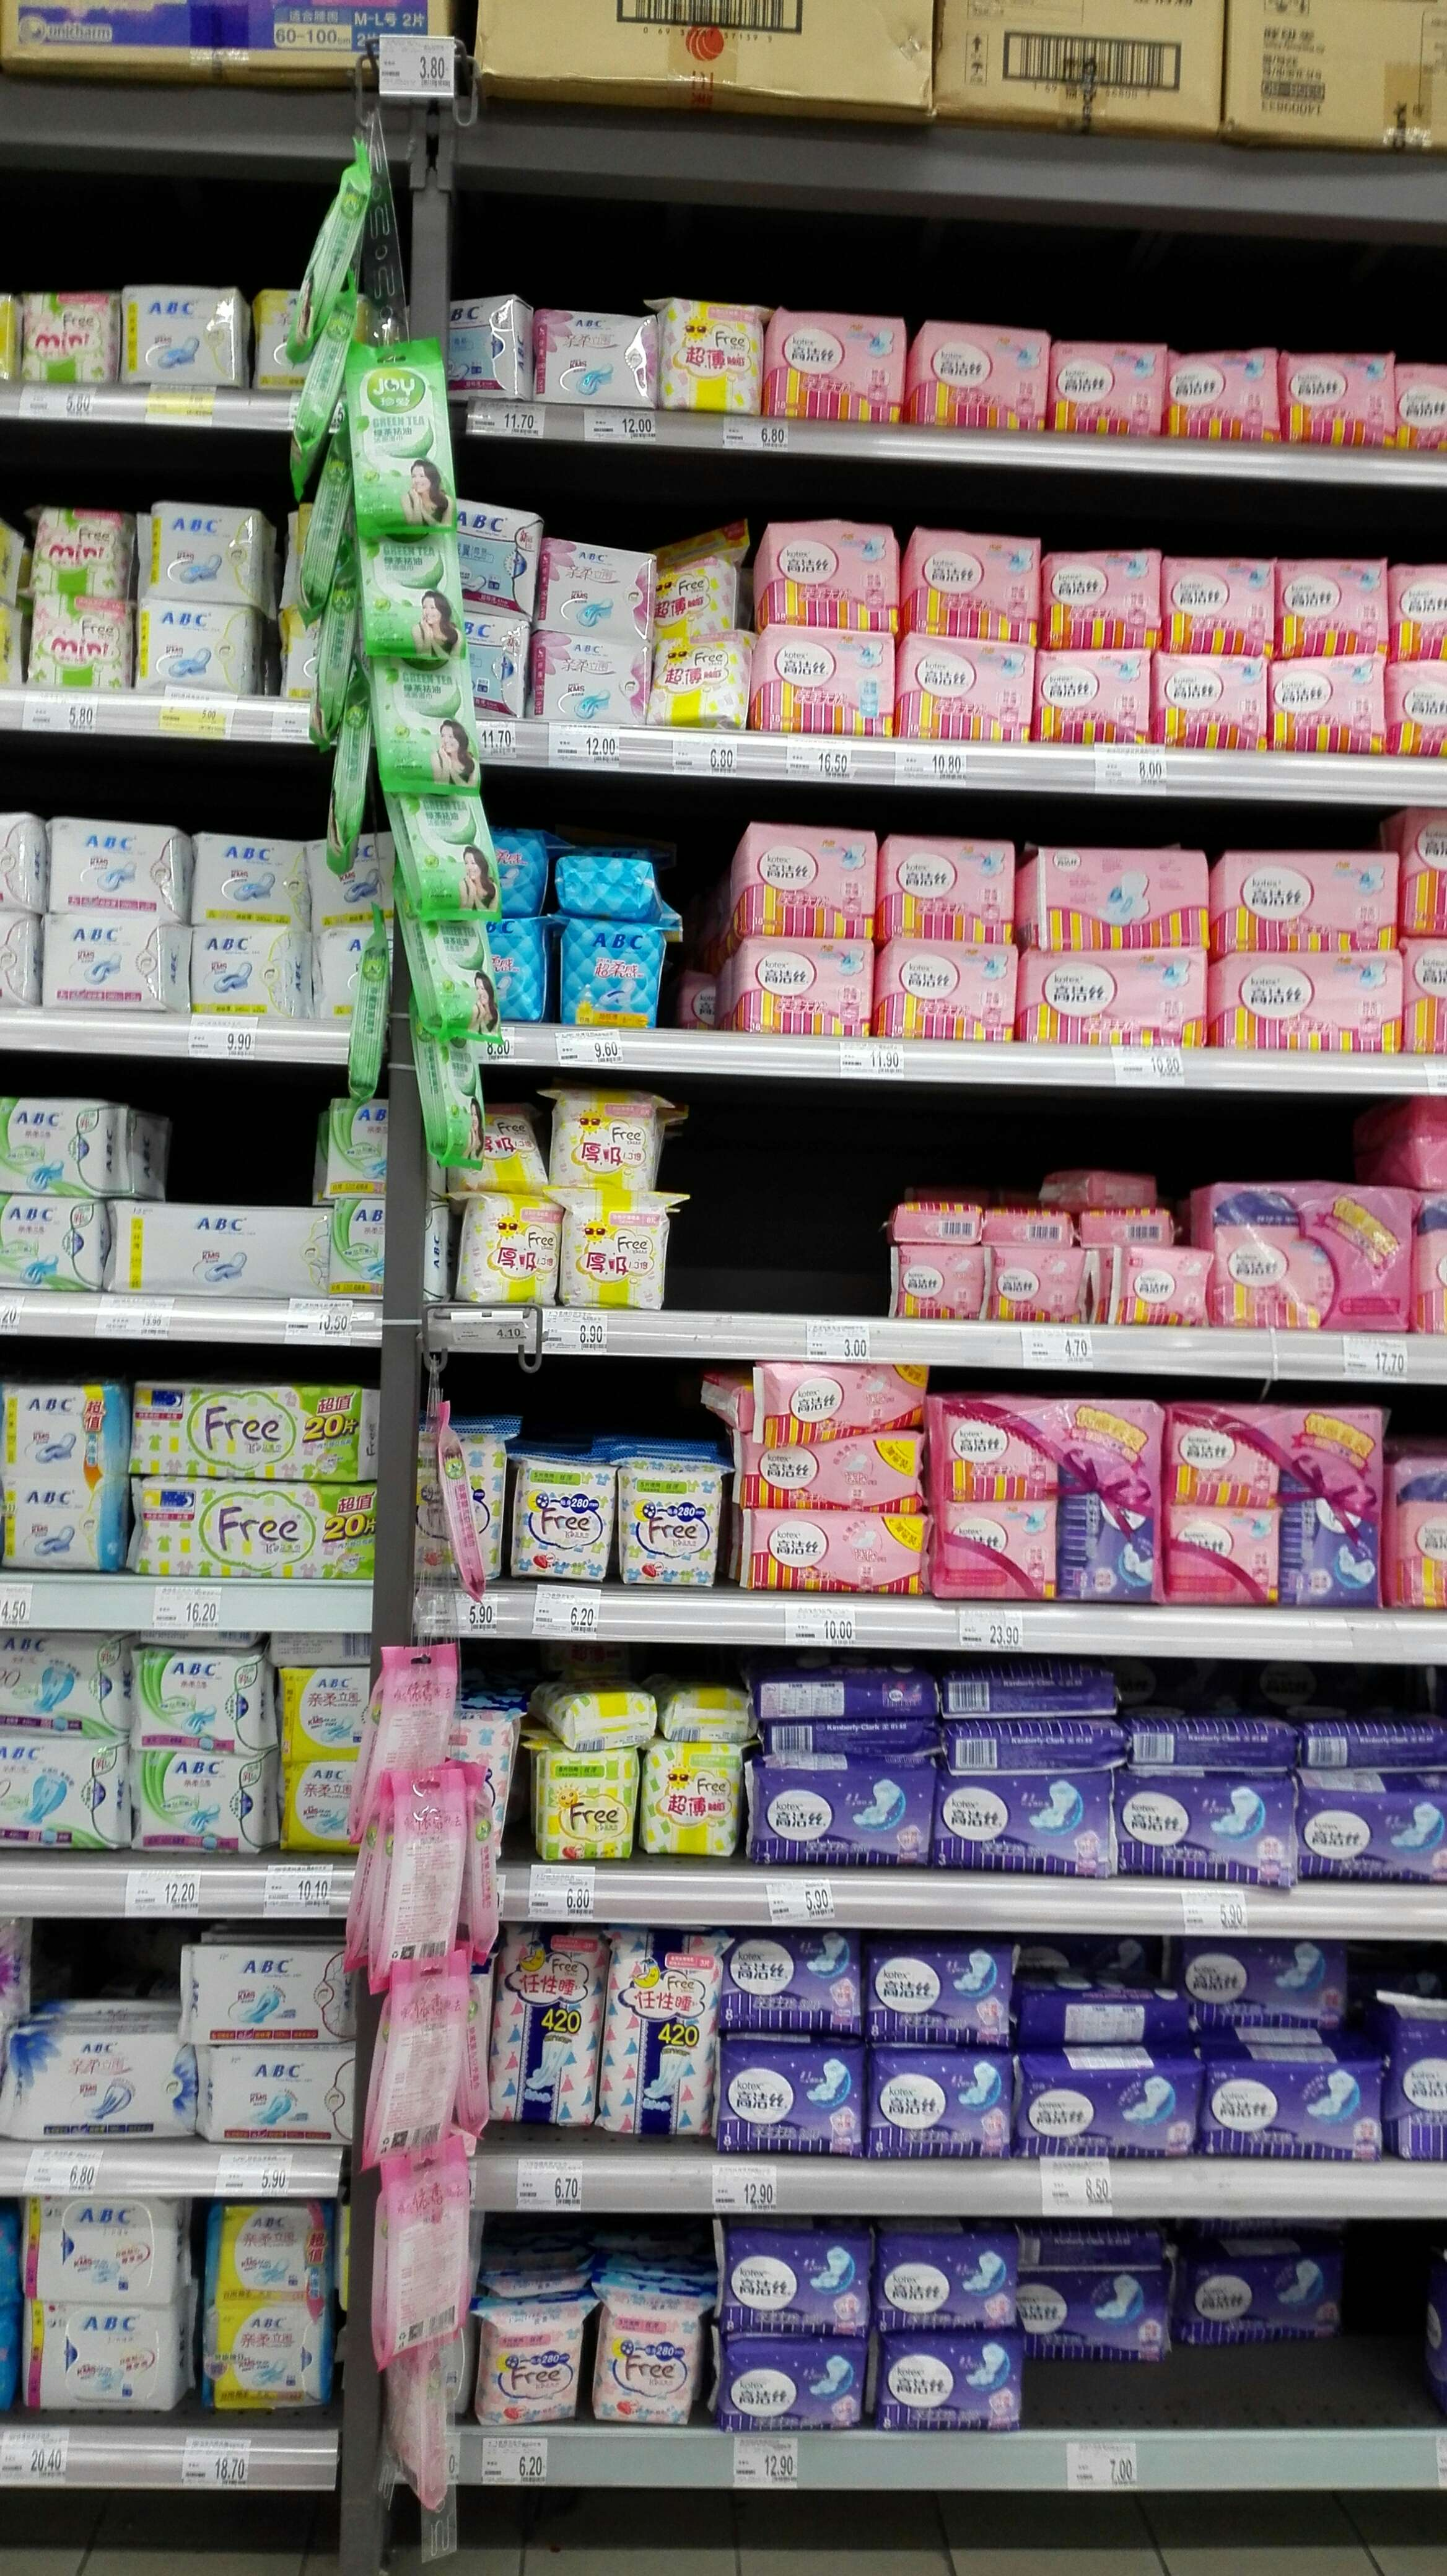Out-of-stock: (679, 1093, 892, 1315)
